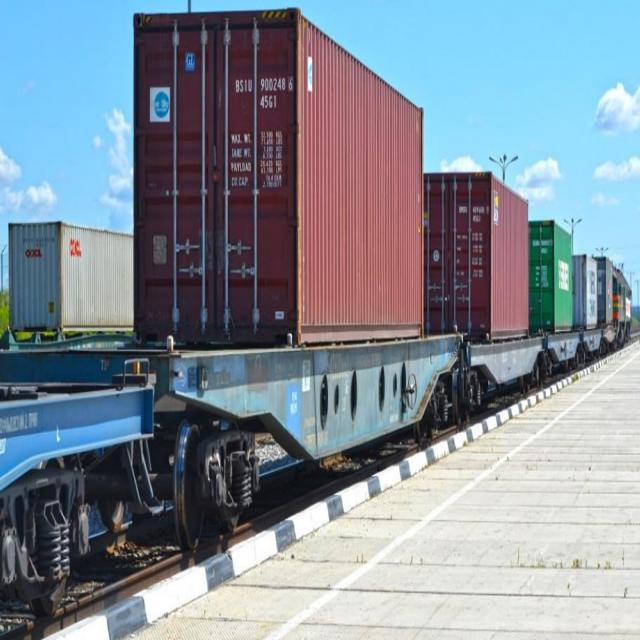container: (131, 6, 426, 348), (424, 166, 531, 347), (6, 217, 133, 338), (530, 217, 574, 338), (572, 252, 598, 330)
flatcar: (152, 328, 468, 524), (466, 334, 544, 396), (546, 330, 581, 379)
